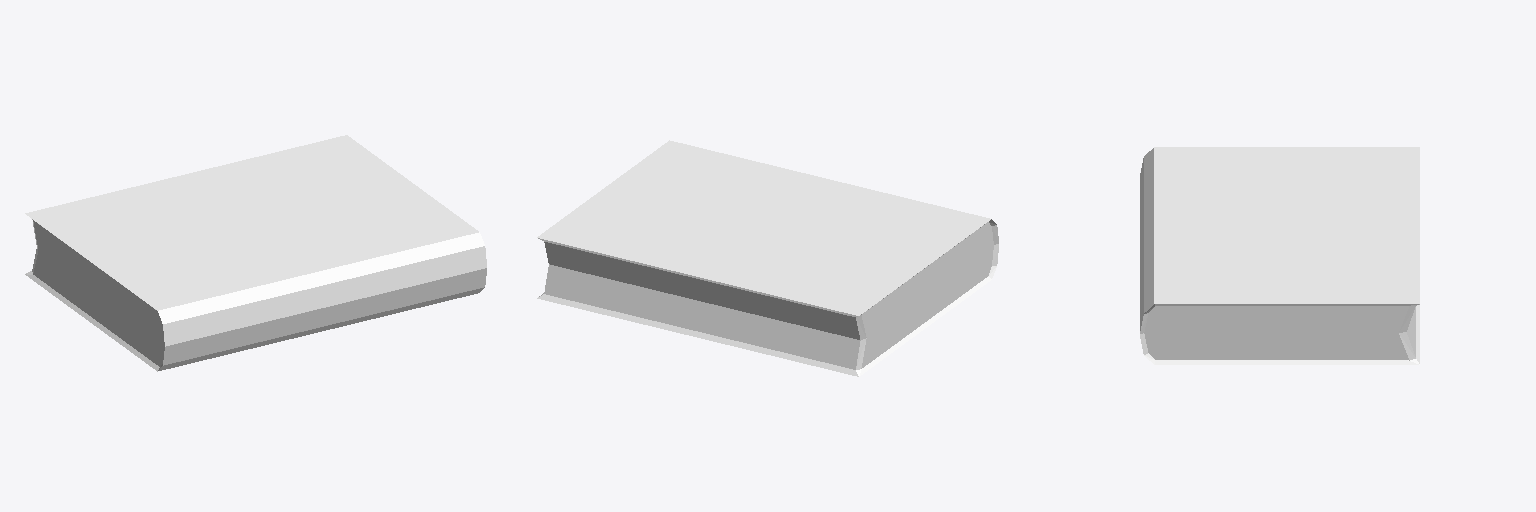
The model's file is book_blank.obj.
3 views of the same model, side by side, from view 1: azimuth 30°, elevation 25°; view 2: azimuth 150°, elevation 25°; view 3: azimuth 270°, elevation 25° (orthographic).
Parts seen in each view (by area): view 1: Book2:pCube1_pCube1_Book2:pCube1_pCube1; view 2: Book2:pCube1_pCube1_Book2:pCube1_pCube1; view 3: Book2:pCube1_pCube1_Book2:pCube1_pCube1.
Boxes of the visible parts, x1,y1,x2,y2 form: Book2:pCube1_pCube1_Book2:pCube1_pCube1: [25, 135, 486, 371]; Book2:pCube1_pCube1_Book2:pCube1_pCube1: [537, 140, 998, 376]; Book2:pCube1_pCube1_Book2:pCube1_pCube1: [1140, 147, 1419, 364].
Bounding box in the file's own units: 8.29 × 1.49 × 6.25.